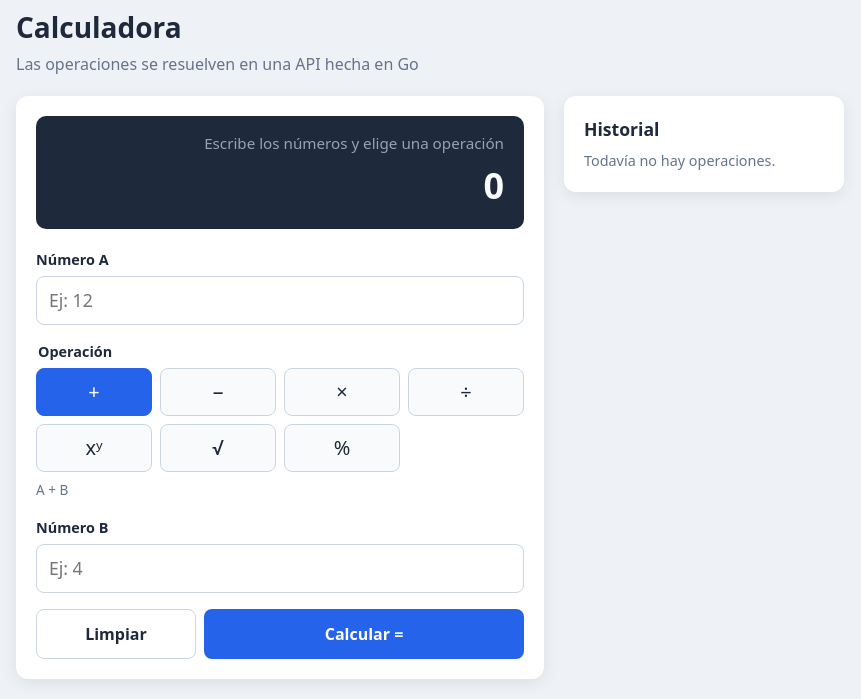
Test: App › Limpiar vuelve la pantalla a 0 y Borrar vacía el historial
In the field labelled "Número A": (280, 301) x1=36 y1=276 x2=524 y2=325, type "1"
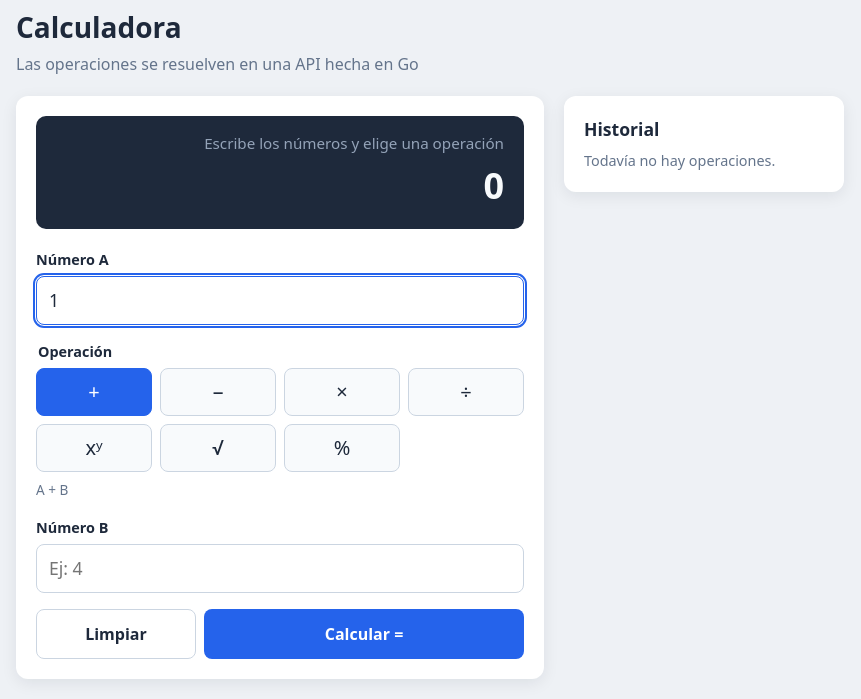
Click the radio button named "Suma": (94, 392) x1=36 y1=368 x2=152 y2=416
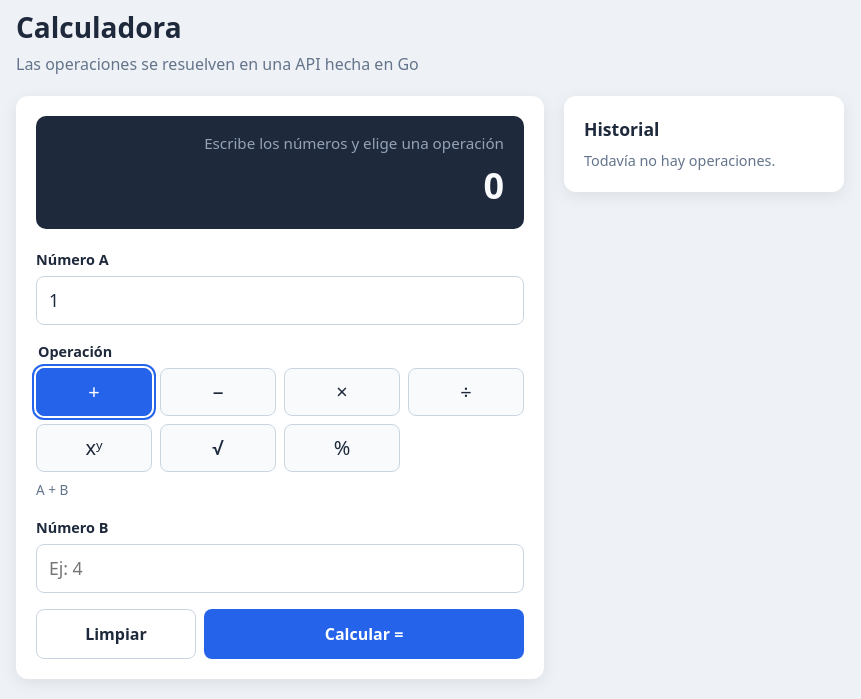
In the field labelled "Número B": (280, 569) x1=36 y1=544 x2=524 y2=593, type "2"
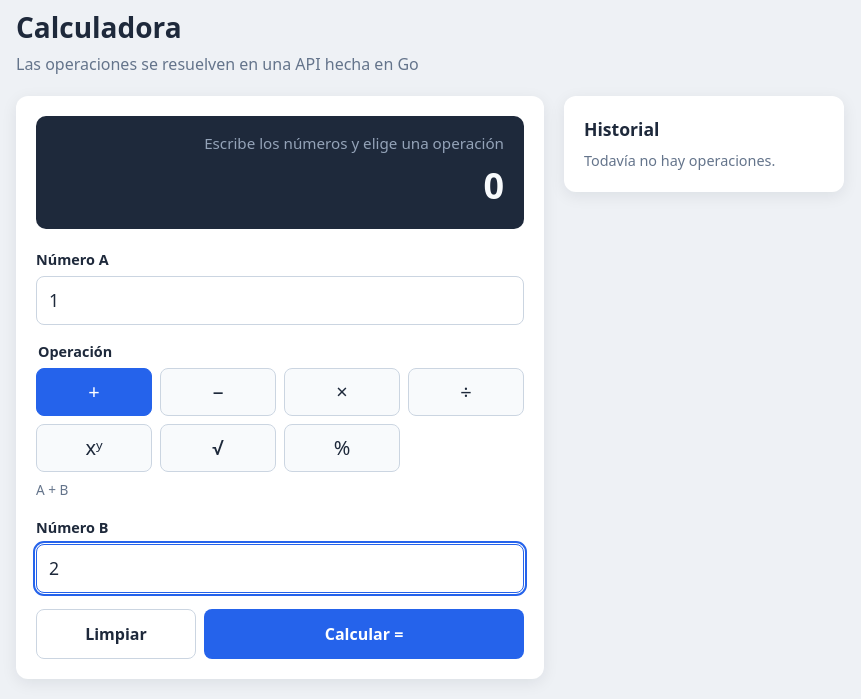
Click the button "Calcular =": (364, 634) x1=204 y1=609 x2=524 y2=659
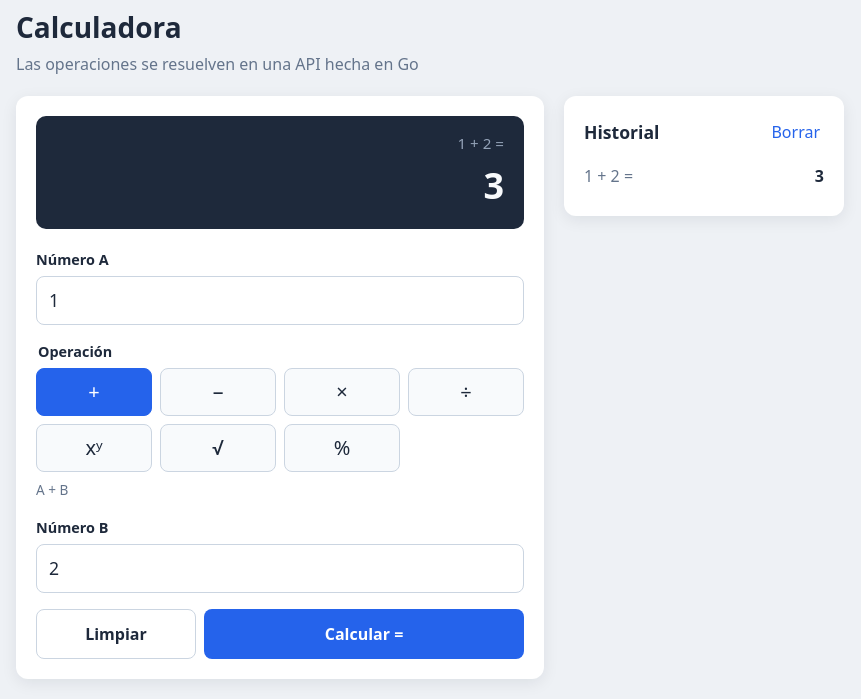
Expected: the 1st text "3" is shown, x1=483 y1=161 x2=504 y2=210
Click the button "Limpiar": (116, 634) x1=36 y1=609 x2=196 y2=659
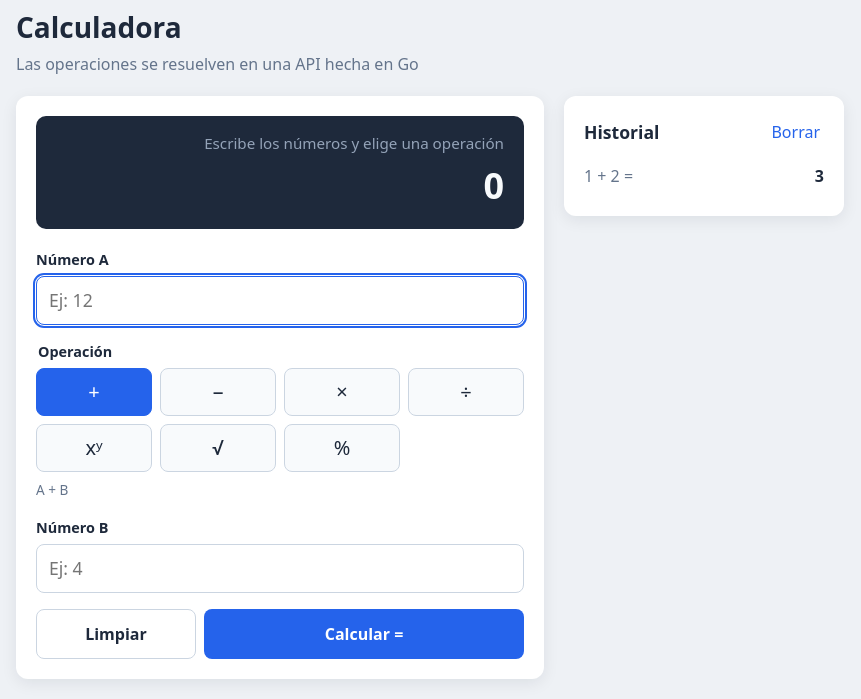
Click the button "Borrar": (796, 132) x1=767 y1=116 x2=824 y2=148
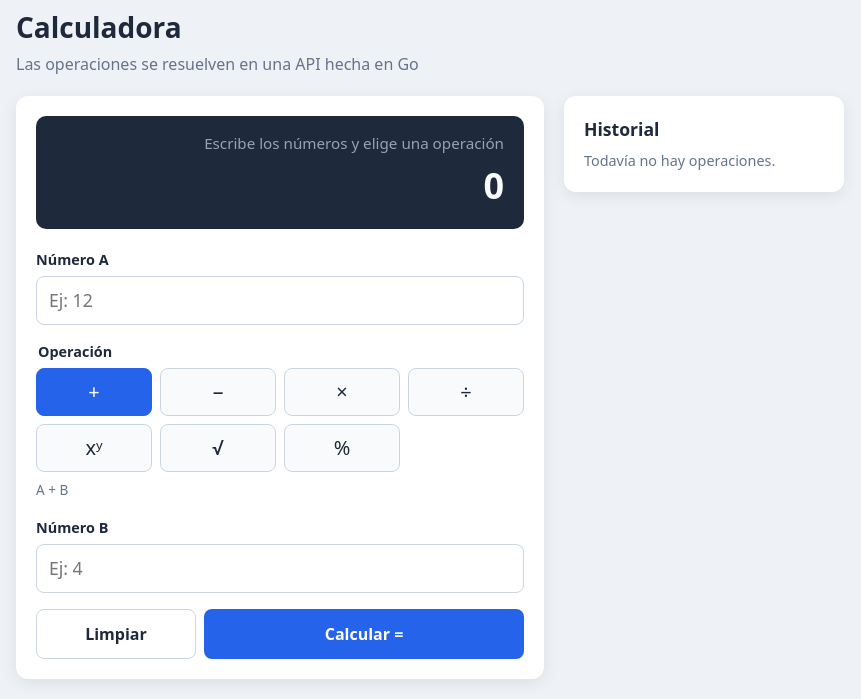
Expected: the text "Todavía no hay operaciones." is shown, x1=584 y1=151 x2=775 y2=170
